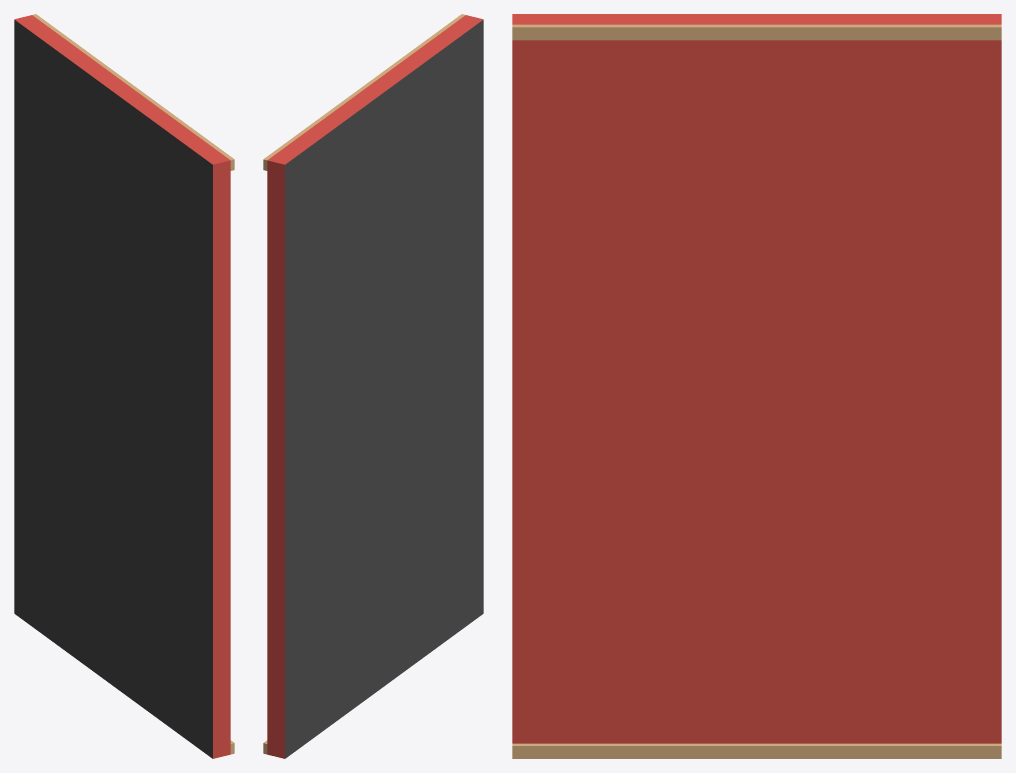
The model's file is wall.glb.
The picture shows the model from 3 angles, left to right: view 1: azimuth 30°, elevation 25°; view 2: azimuth 150°, elevation 25°; view 3: azimuth 270°, elevation 25°; orthographic projection. The views are drawn at different scales.
Parts seen in each view (by area): view 1: Cube.002, Cube, Cube.001; view 2: Cube.002, Cube, Cube.001; view 3: Cube, Cube.001.
Boxes of the visible parts, x1=… form: Cube.002: x1=14, y1=20, x2=212, y2=758; Cube: x1=14, y1=15, x2=230, y2=758; Cube.001: x1=32, y1=14, x2=234, y2=754; Cube.002: x1=285, y1=20, x2=483, y2=758; Cube: x1=267, y1=15, x2=483, y2=758; Cube.001: x1=263, y1=14, x2=465, y2=754; Cube: x1=512, y1=14, x2=1001, y2=743; Cube.001: x1=512, y1=24, x2=1001, y2=758.
Bounding box in the file's own units: 0.0638 × 1.65 × 1.
